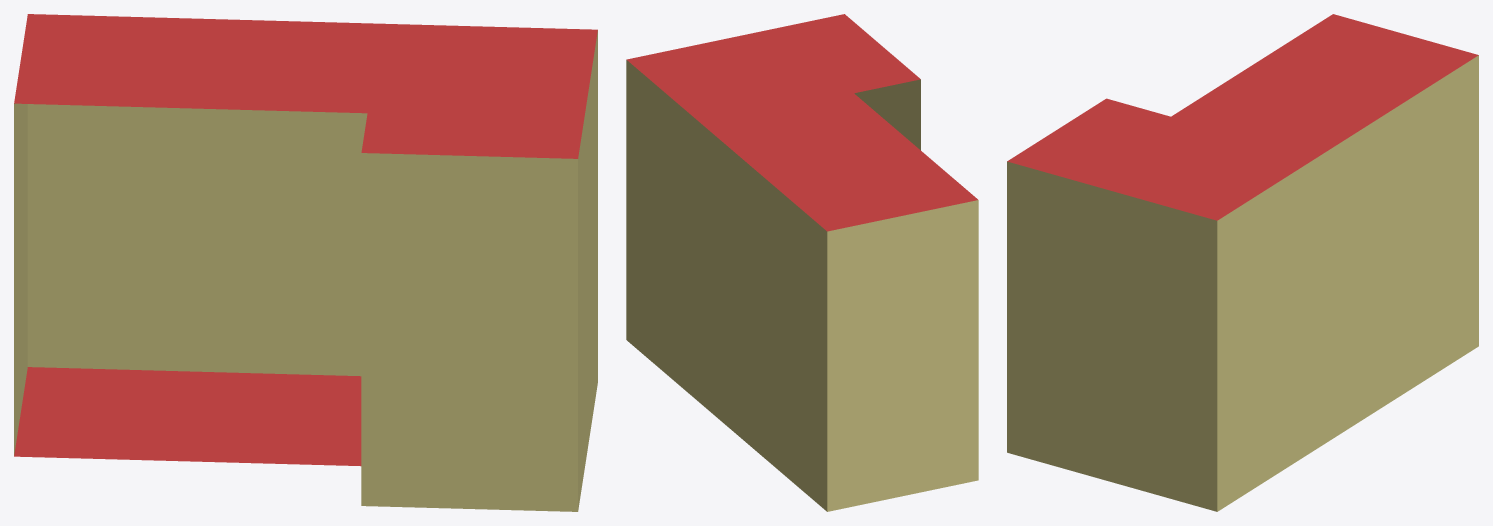
The picture shows the model from 3 angles, left to right: view 1: azimuth 30°, elevation 25°; view 2: azimuth 150°, elevation 25°; view 3: azimuth 270°, elevation 25°; orthographic projection. The views are drawn at different scales.
Size of the model in its own units: 10.58 by 10.21 by 6.95.
